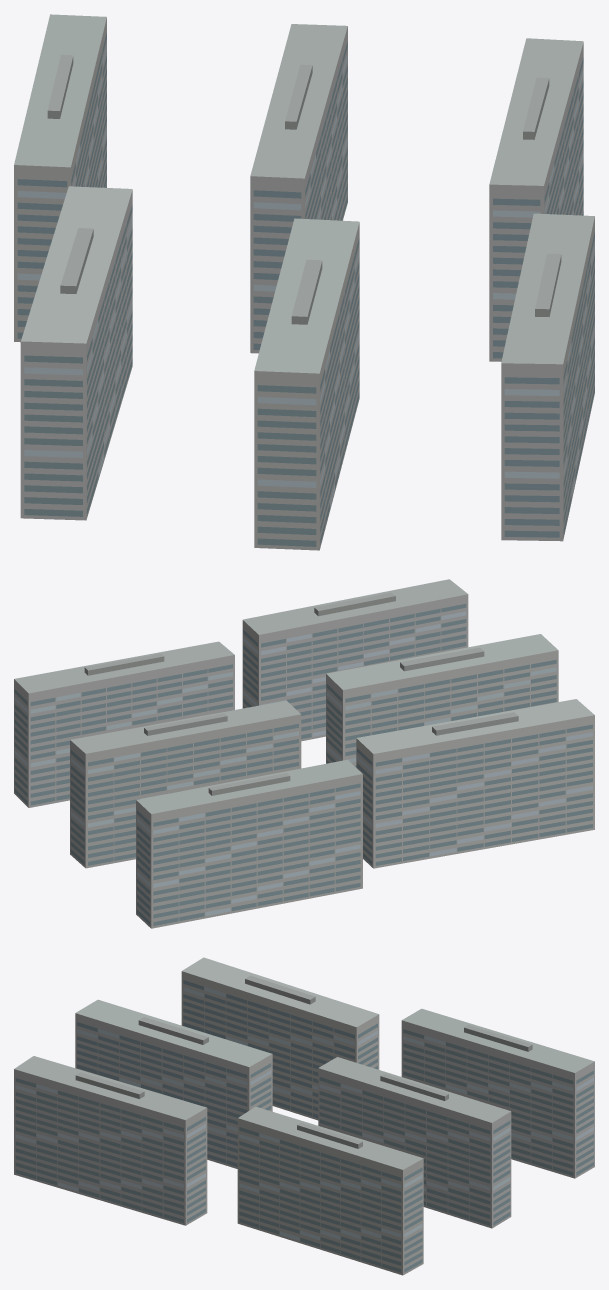
Rendered from apt-a15780703.glb.
The picture shows the model from 3 angles, top to bottom: view 1: azimuth 30°, elevation 25°; view 2: azimuth 150°, elevation 25°; view 3: azimuth 270°, elevation 25°; orthographic projection. The views are drawn at different scales.
Visible parts, largest first — view 1: apt-a15780703; view 2: apt-a15780703; view 3: apt-a15780703.
Part boxes in pixels (<box>): apt-a15780703: <box>14,14,594,550</box>; apt-a15780703: <box>14,579,594,928</box>; apt-a15780703: <box>14,957,594,1275</box>.
Bounding box in the file's own units: 197 × 47.81 × 228.
